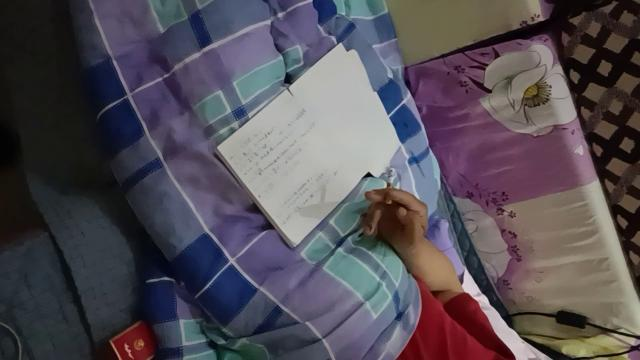Smoking: (386, 170, 394, 204)
